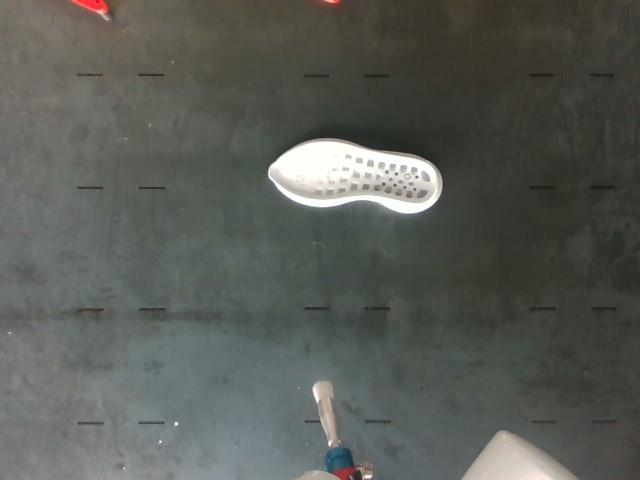shoes: (269, 142, 437, 203)
